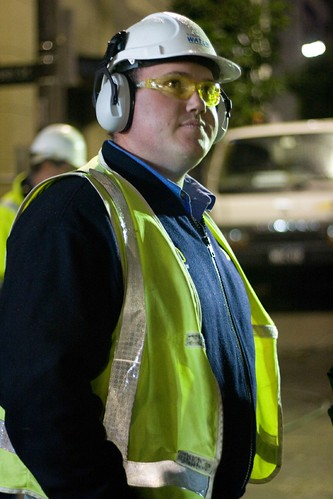person hardhat: (11, 15, 315, 499), (5, 125, 111, 247)
